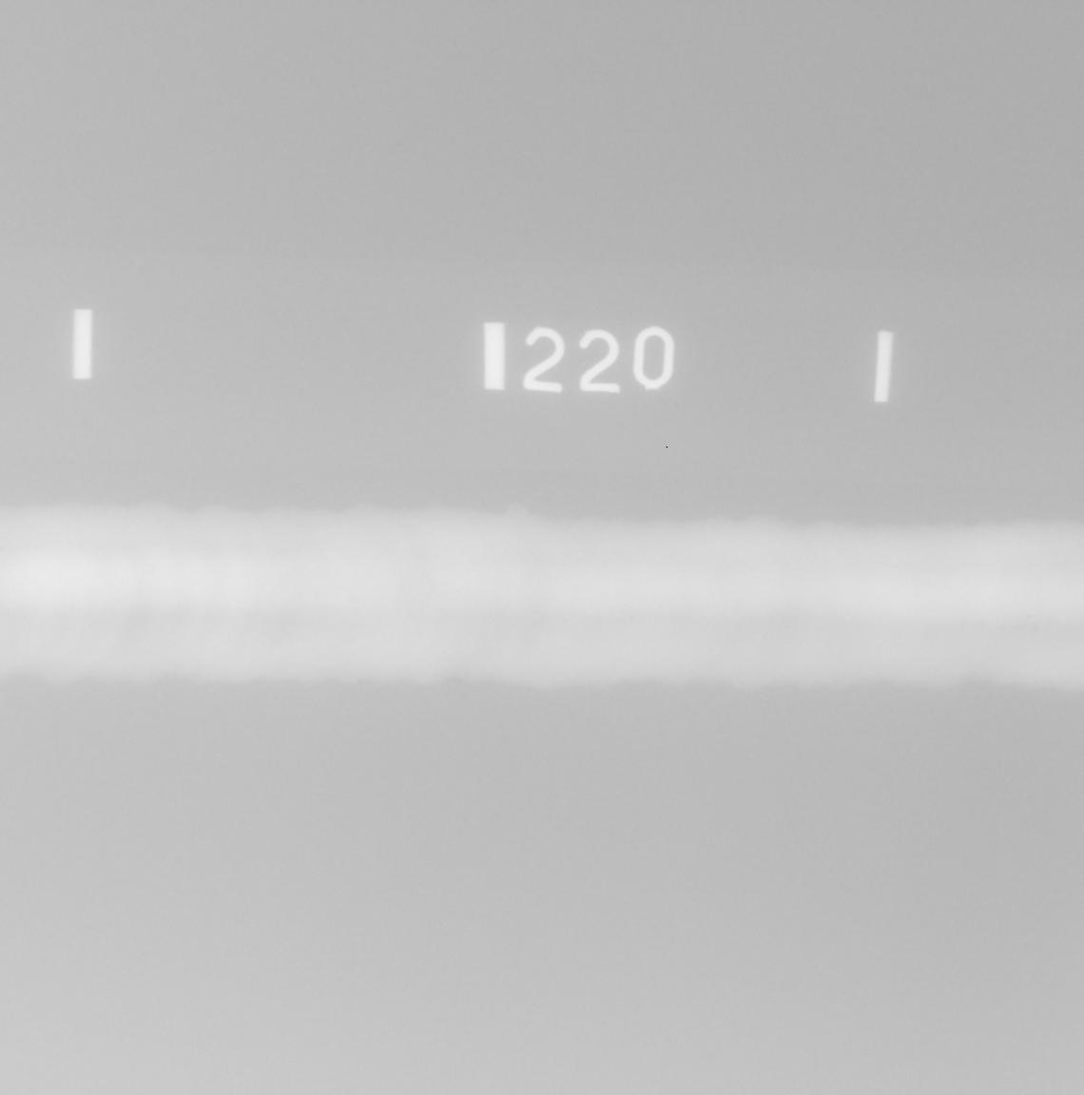Pore/Porosity: (629, 616, 634, 621), (1026, 614, 1031, 618), (735, 610, 739, 614), (1032, 628, 1036, 632), (1032, 609, 1036, 613), (350, 598, 355, 601)
